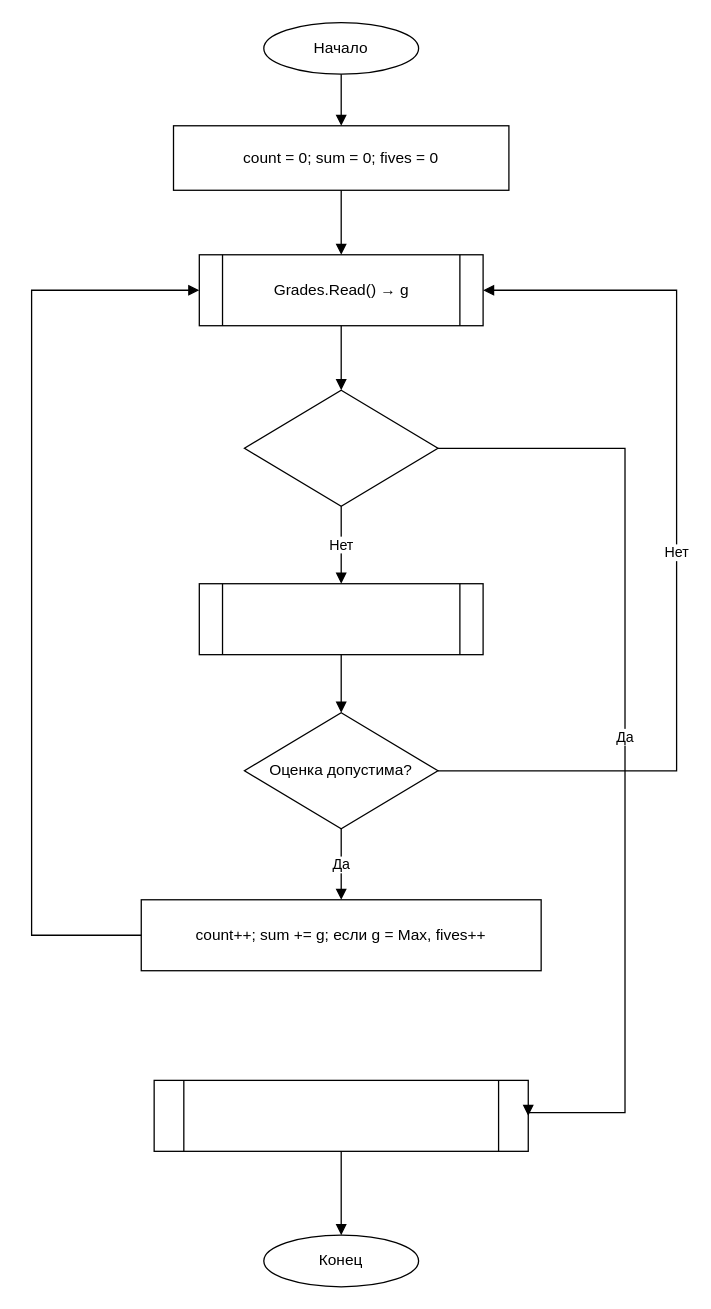
The diagram is 711 pixels wide and 1309 high, and some of its shapes have lost their labels. The shapes that lost their labels are listed below. From the top down, each one's centre as x and y in pixels, then its label:
[340,447]: g = Stop?
[340,618]: Grades.IsValid(g)
[340,1115]: Grades.PrintStats(count, sum, fives)
